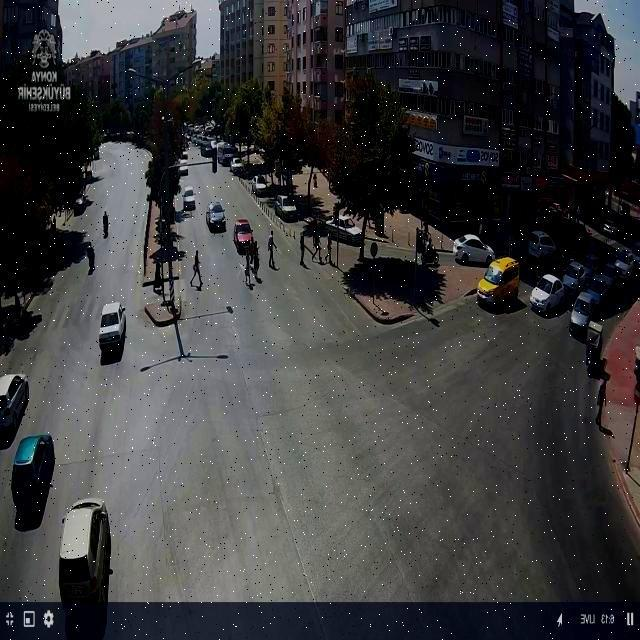Car: (58, 496, 110, 598), (10, 436, 56, 498), (475, 258, 521, 310), (0, 372, 30, 432), (528, 273, 568, 315), (96, 302, 128, 354), (566, 290, 600, 335), (324, 212, 365, 246), (451, 235, 495, 265), (232, 218, 257, 252), (205, 198, 228, 233), (530, 231, 558, 258), (273, 194, 298, 222), (612, 250, 634, 278), (565, 263, 587, 289), (182, 186, 198, 210), (250, 174, 267, 195), (602, 222, 617, 234), (338, 253, 346, 254)
Cycle: (421, 247, 440, 265)
Van: (217, 140, 234, 165)
